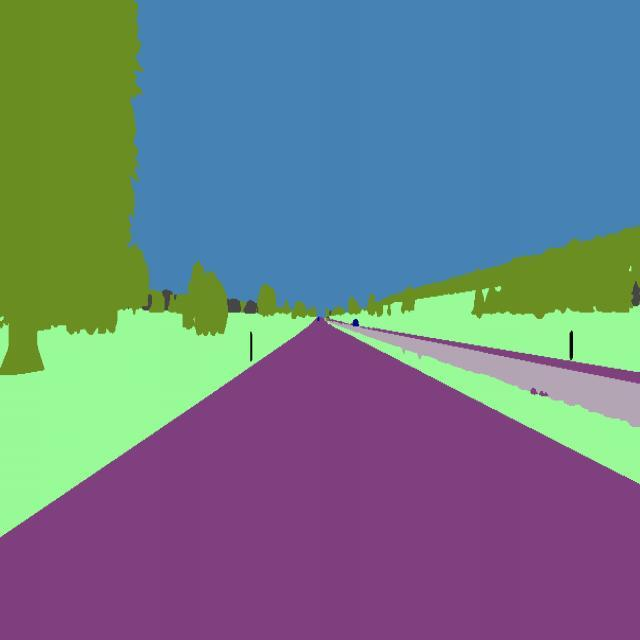safe: (348, 315, 362, 331)
